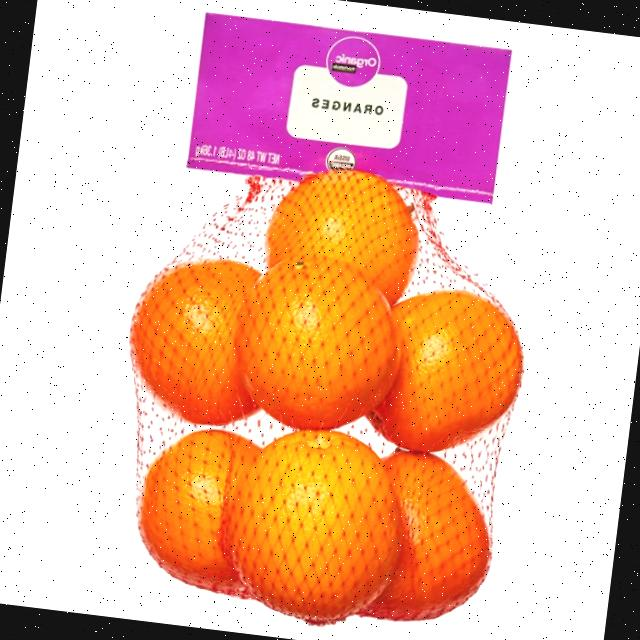orange: (210, 418, 414, 636), (216, 238, 412, 442), (356, 278, 534, 465), (341, 440, 504, 630), (118, 246, 270, 432), (127, 419, 274, 605), (258, 160, 431, 302)
